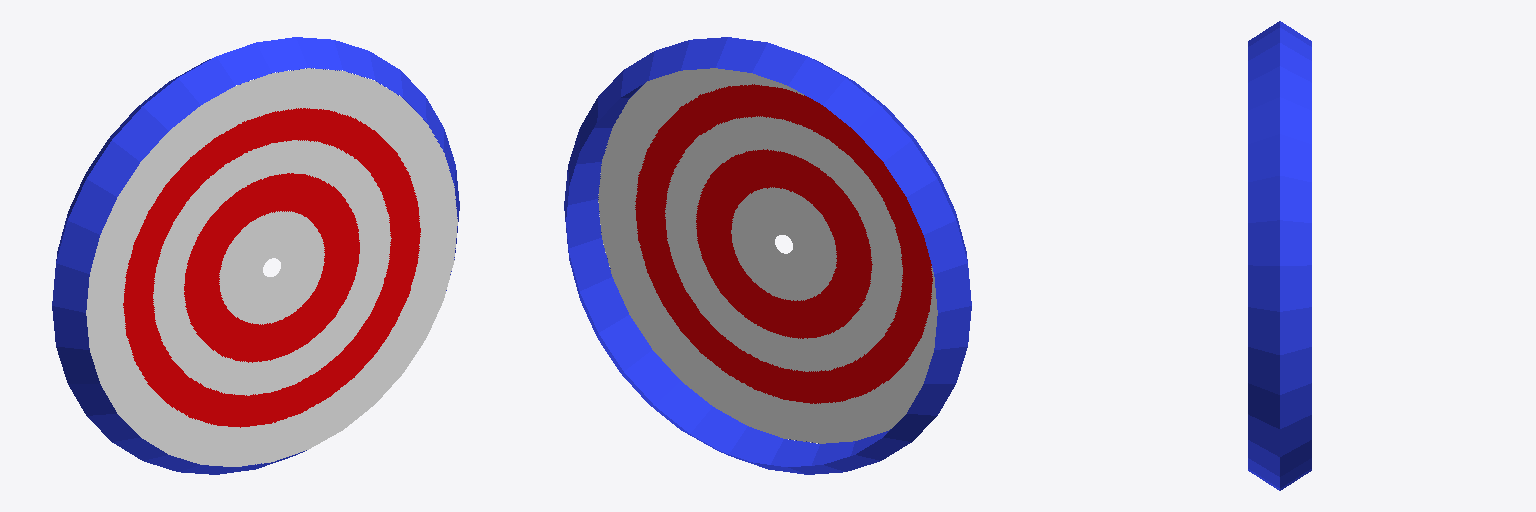
3 views of the same model, side by side, from view 1: azimuth 30°, elevation 25°; view 2: azimuth 150°, elevation 25°; view 3: azimuth 270°, elevation 25° (orthographic).
Parts seen in each view (by area): view 1: Circle_Circle.001; view 2: Circle_Circle.001; view 3: Circle_Circle.001.
Boxes of the visible parts, x1=… form: Circle_Circle.001: x1=52, y1=37, x2=459, y2=474; Circle_Circle.001: x1=564, y1=37, x2=971, y2=474; Circle_Circle.001: x1=1248, y1=21, x2=1311, y2=490.
Bounding box in the file's own units: 2.19 × 2.19 × 0.3.
Materials: 1 (1 with a texture image).